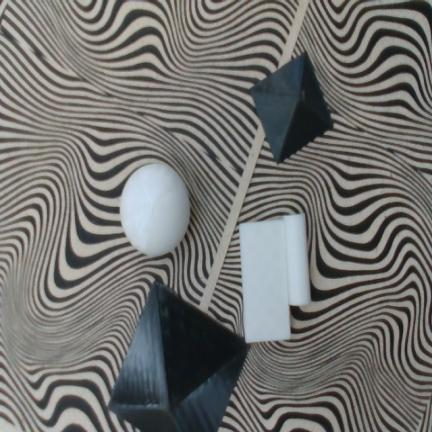Cilindro: (283, 213, 311, 306)
Esfera: (120, 163, 190, 256)
Paralelepipedo: (239, 219, 290, 343)
Piramide: (107, 279, 249, 431), (250, 53, 333, 162)
